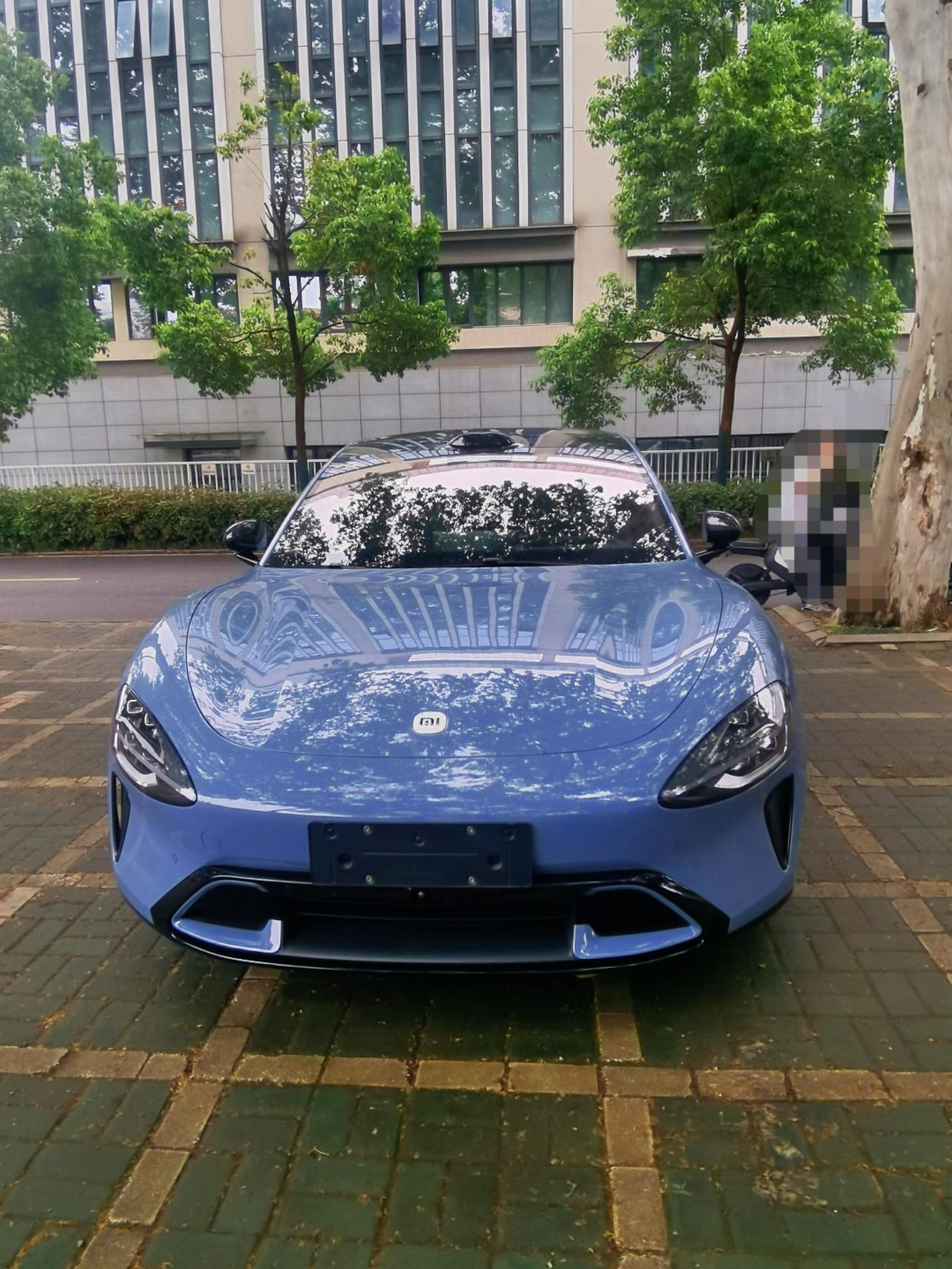su7: (108, 418, 810, 971)
